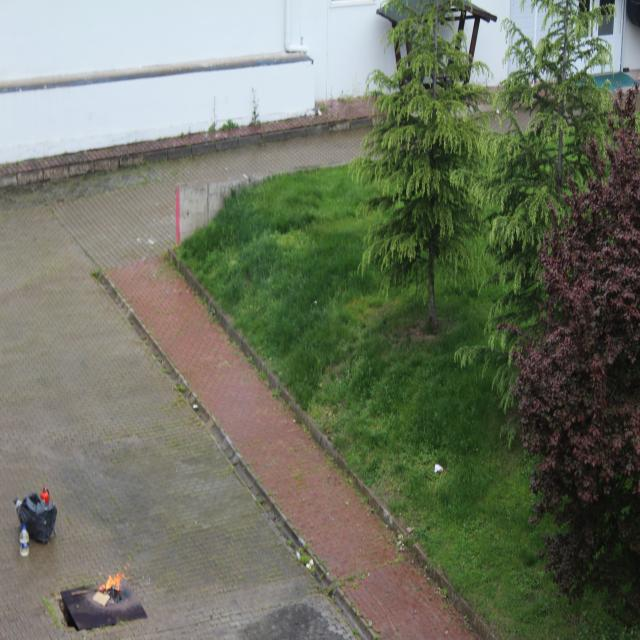fire: (99, 563, 130, 597)
